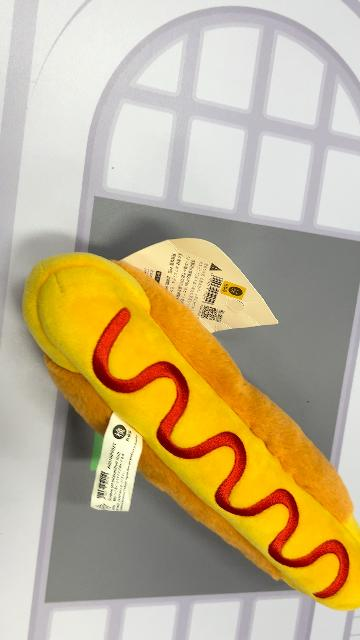hotdog: (22, 250, 358, 612)
